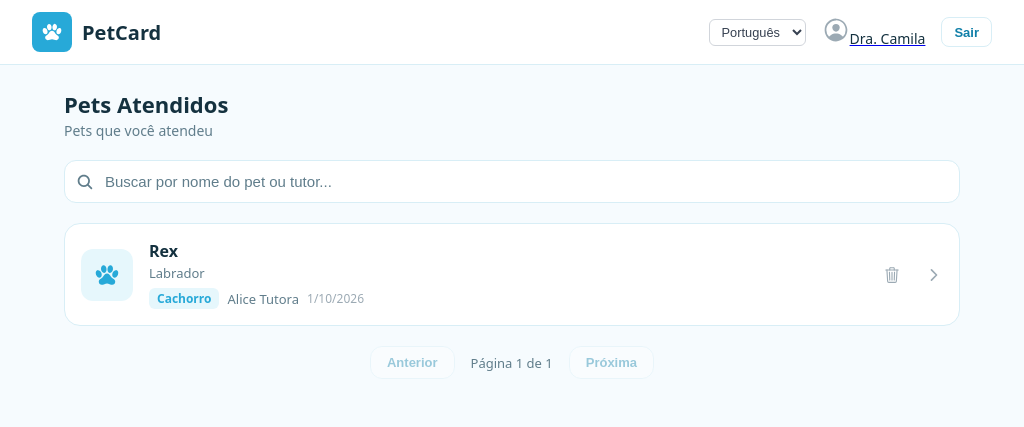
Scenario: VetDashboardPage › remover pet da lista › avisa quando a remoção falha
Check: the text "Rex" is shown, box x1=149 y1=240 x2=178 y2=262
Click the button named "Tirar Rex da lista" at (892,274), box x1=875 y1=258 x2=909 y2=292
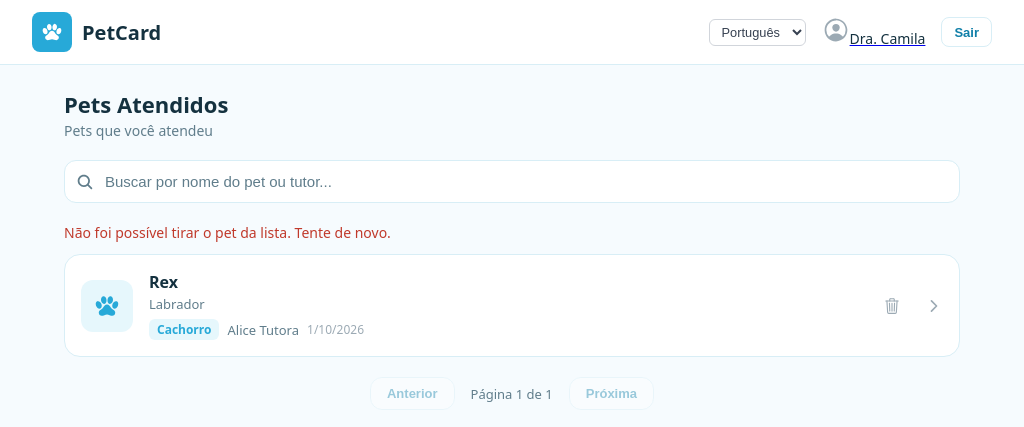
Check: the text "Não foi possível tirar o pet da lista. Tente de novo." is shown, box x1=64 y1=223 x2=391 y2=242
